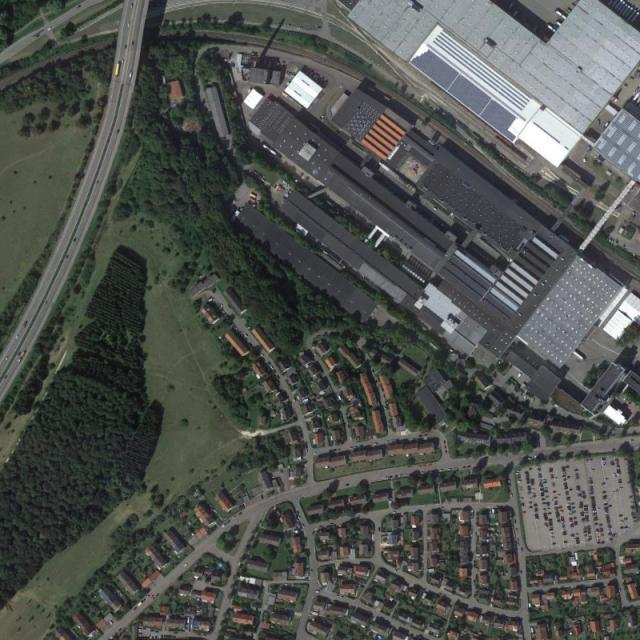vehicle: (115, 63, 120, 78)
